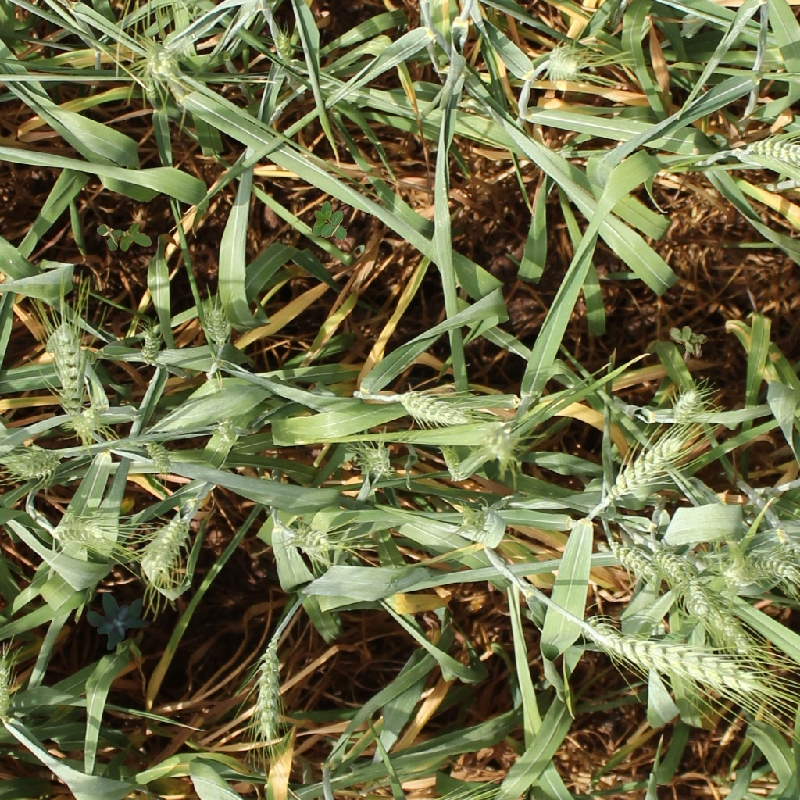spikelet: (580, 618, 767, 698), (661, 552, 760, 662), (599, 431, 686, 506), (47, 320, 89, 427), (253, 633, 284, 740), (140, 515, 190, 577), (396, 387, 472, 426), (748, 541, 800, 584), (3, 445, 61, 479), (458, 504, 505, 545), (284, 522, 333, 560), (739, 136, 800, 166), (611, 539, 657, 578), (53, 516, 106, 545), (484, 422, 520, 459), (201, 304, 231, 346), (670, 386, 703, 424), (544, 47, 581, 79), (144, 45, 178, 79), (359, 444, 392, 478), (138, 323, 164, 365), (70, 404, 100, 438), (143, 439, 173, 471), (1, 658, 11, 720)
weed: (82, 585, 153, 653), (95, 206, 154, 266), (310, 198, 353, 243), (669, 326, 708, 363)
